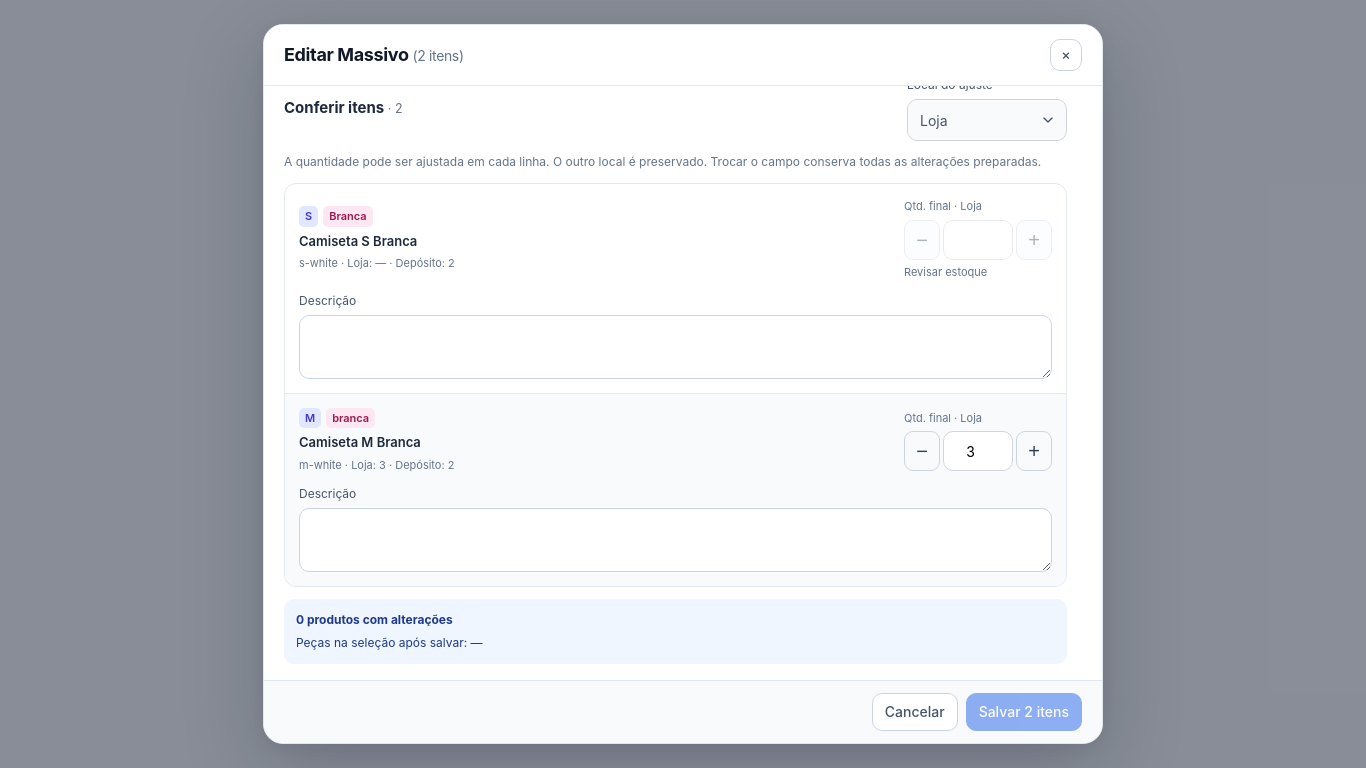
Test: preserves known rows when one item is unknown; saves without a reason and shows conflicts
The image size is (1366, 768).
(page scrolled)
Replace the text in the number field named "Quantidade Camiseta M Branca" with "0" at (978, 451), box [943,431,1013,471]
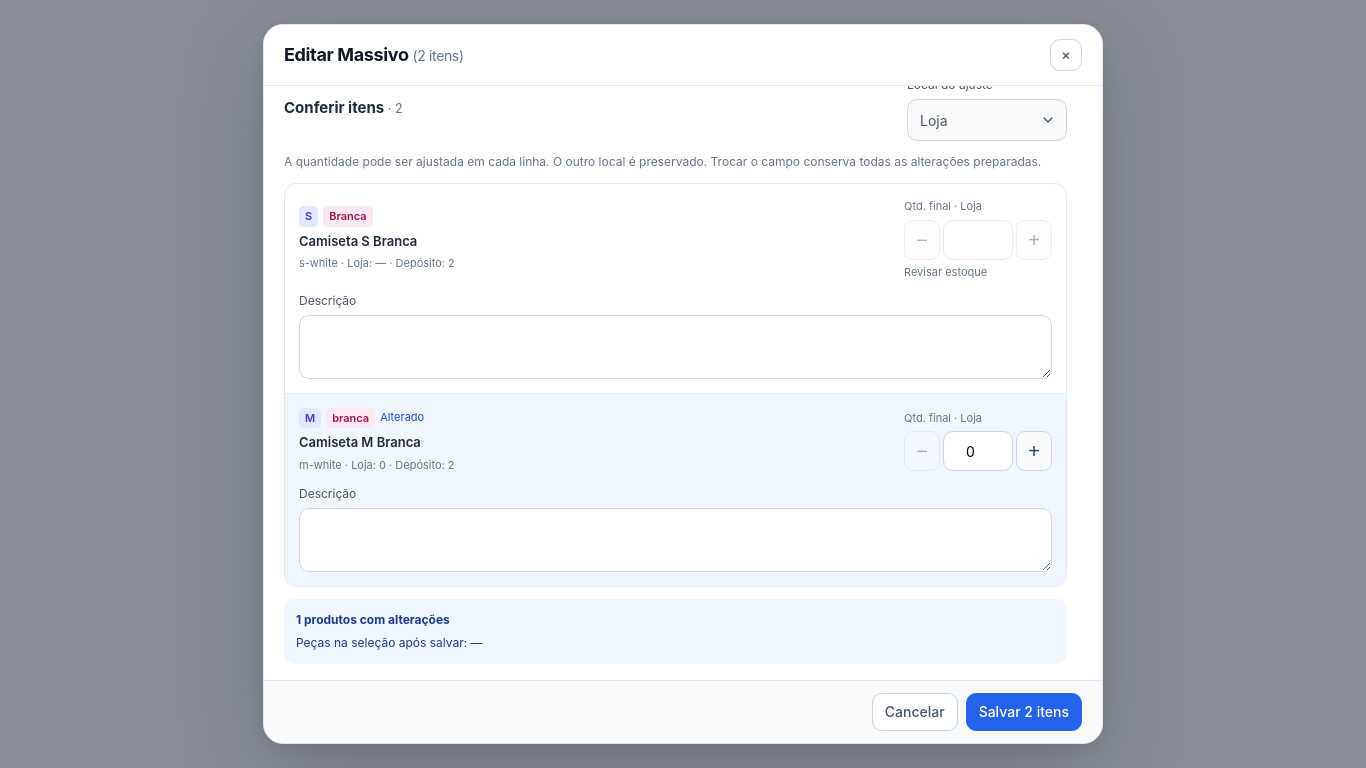
Click the button "Salvar 2 itens" at (1024, 712), box [966,693,1082,731]
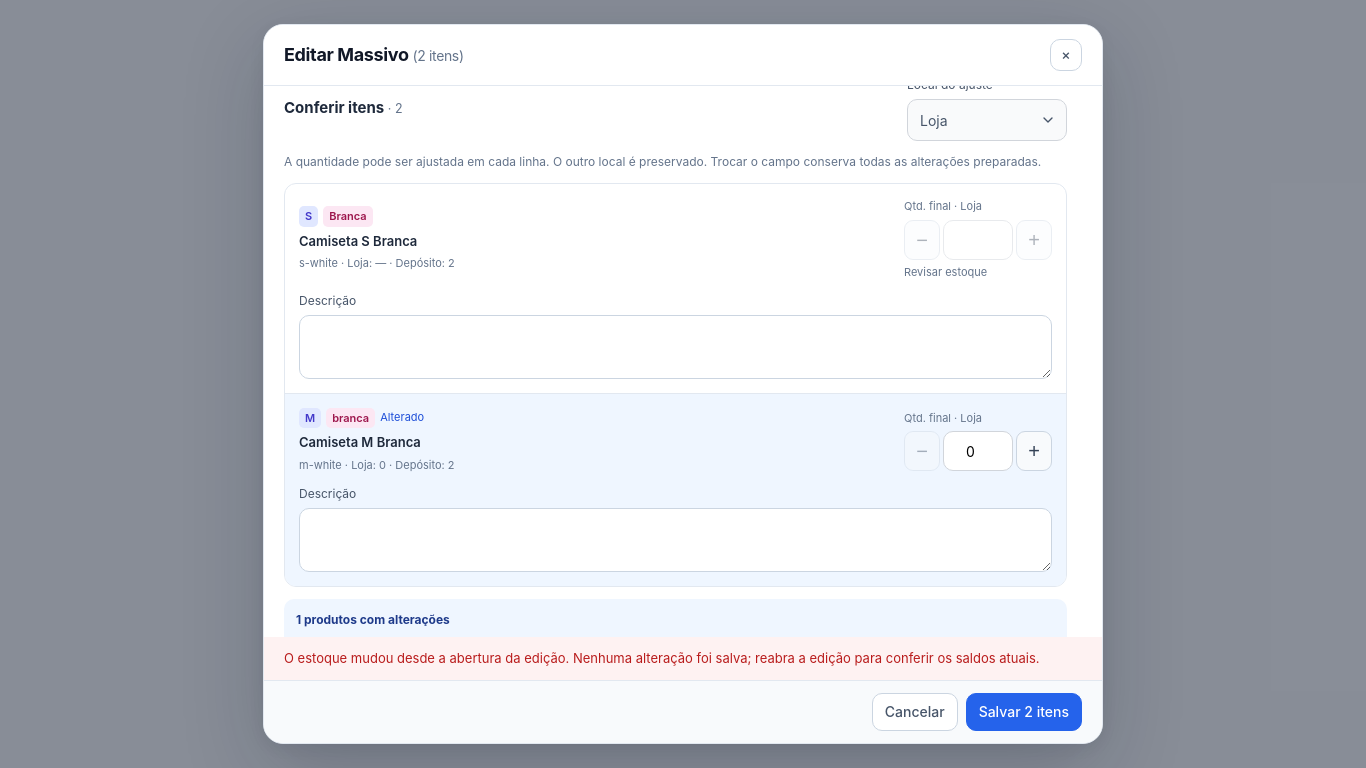
Check: the message with class "save-error" shows "O estoque mudou", box [284,650,1040,666]
